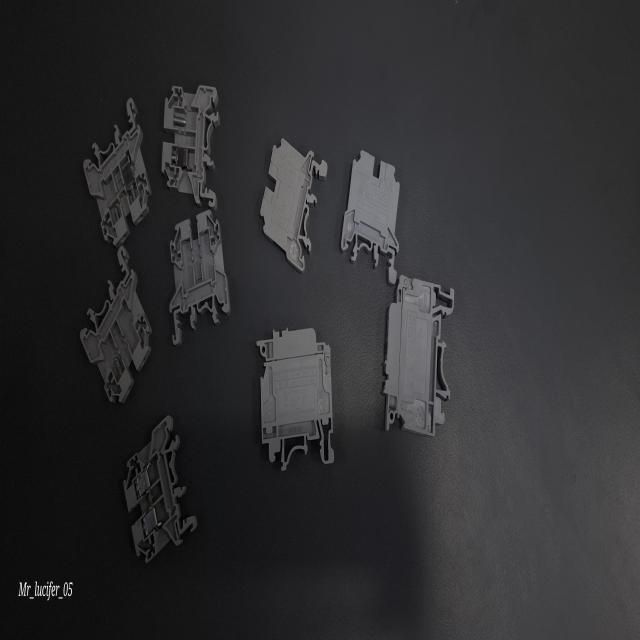Inverted: (260, 137, 328, 276), (340, 147, 399, 286)
Pass: (122, 414, 198, 567)
Reject: (80, 245, 154, 410), (82, 97, 152, 244), (168, 211, 230, 346), (162, 82, 220, 211)
